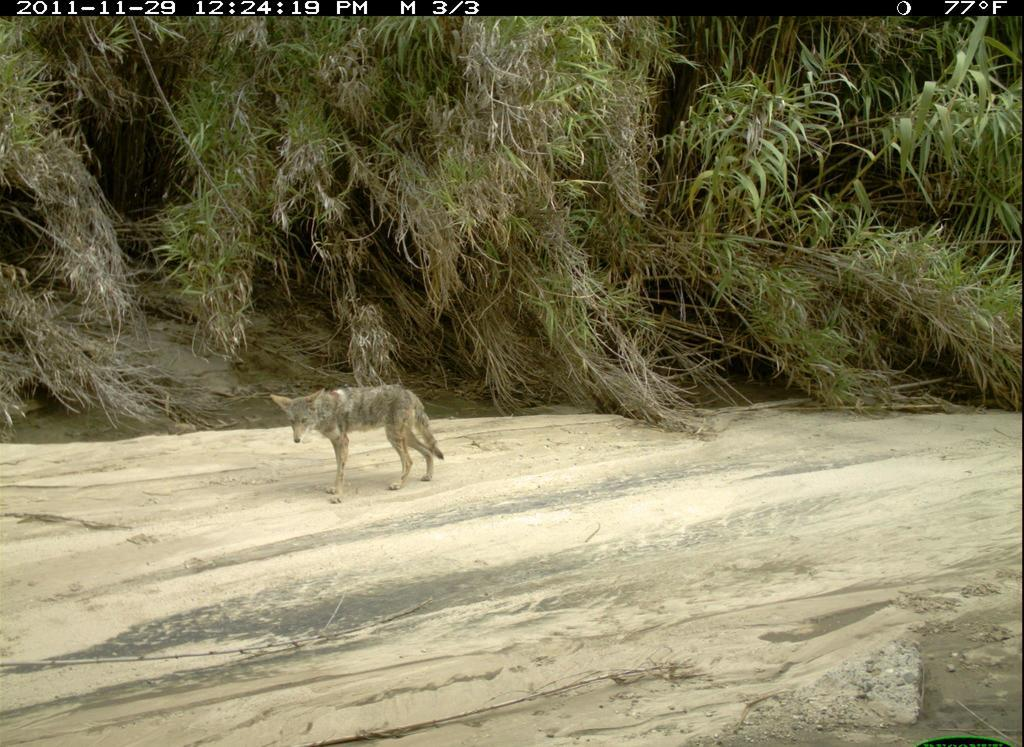coyote: (271, 377, 449, 498)
